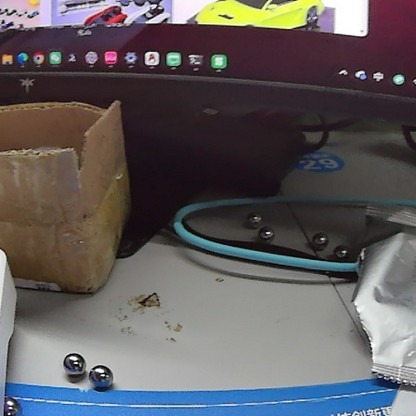ironball: (87, 363, 117, 392), (59, 348, 87, 378), (306, 226, 331, 253), (4, 391, 25, 414), (256, 220, 274, 242), (335, 242, 350, 263), (245, 208, 262, 226)
